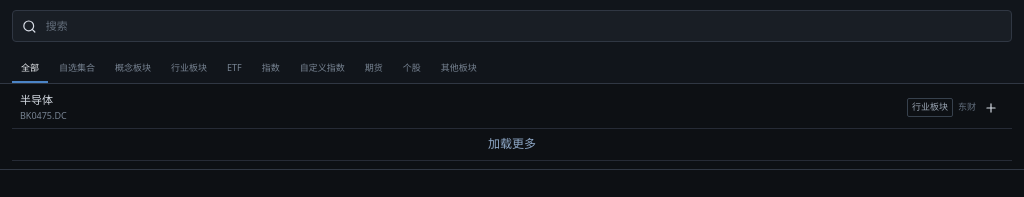
InstrumentBrowser › keeps keyword search inside the selected classification and loads more
This screenshot has width=1024, height=197.
Click the tab "行业板块" at (189, 69), box [162, 55, 216, 83]
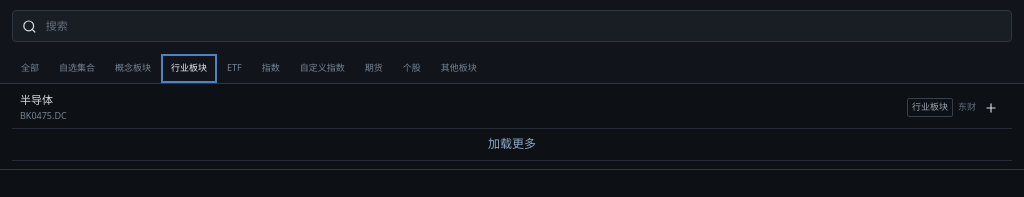
Type "bdt" into the field named "搜索可添加标的" at (523, 26), box [44, 18, 1002, 34]
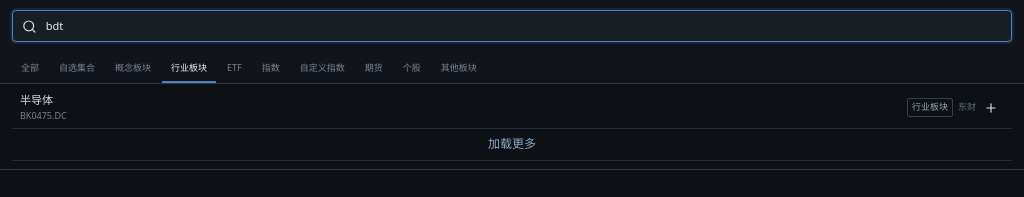
Click the button "加载更多" at (512, 145), box [12, 129, 1012, 161]
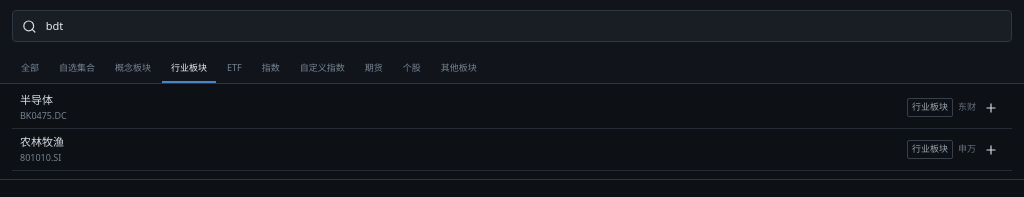
Result: the text "农林牧渔" is shown at [20, 135, 64, 150]
